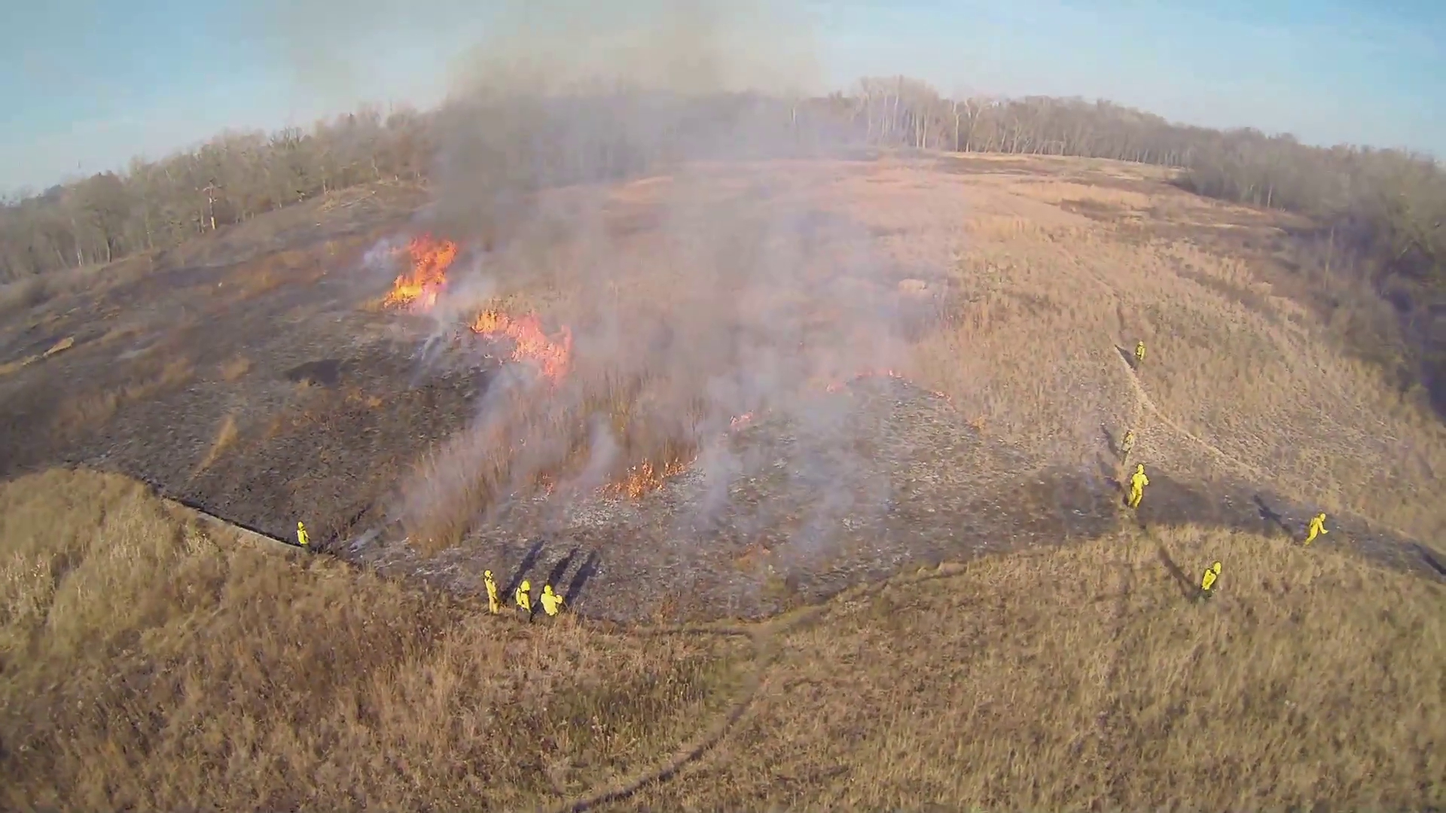forest_fire: (469, 310, 571, 379), (383, 234, 459, 311)
